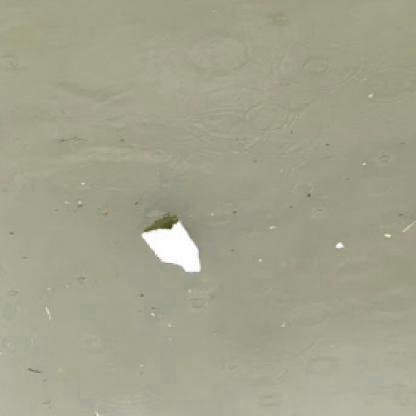Trash: (140, 215, 202, 278)
